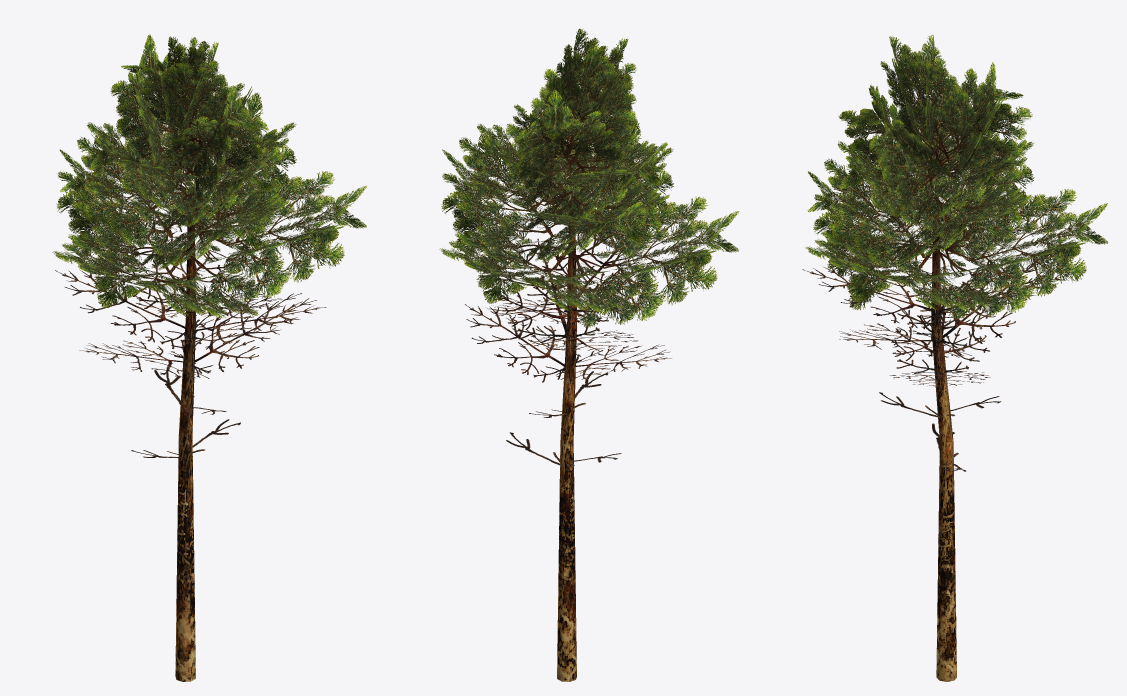
The model's file is pine.gltf.
The picture shows the model from 3 angles, left to right: view 1: azimuth 30°, elevation 25°; view 2: azimuth 150°, elevation 25°; view 3: azimuth 270°, elevation 25°; orthographic projection. The views are drawn at different scales.
Parts seen in each view (by area): view 1: pine; view 2: pine; view 3: pine.
Part boxes in pixels (<box>): pine: <box>52,34,366,681</box>; pine: <box>439,28,739,681</box>; pine: <box>802,34,1108,681</box>.
Size of the model in its own units: 14.76 by 26.46 by 12.71.
Materials: 2 (2 with a texture image).
